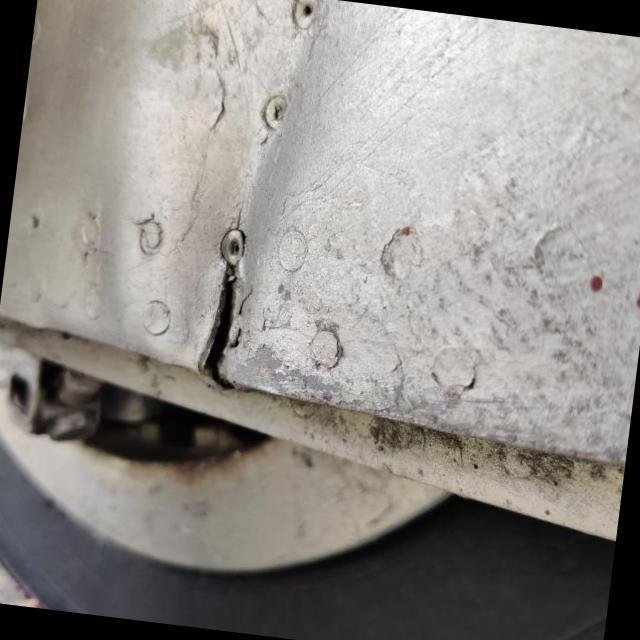Rupture: (172, 244, 278, 401)
